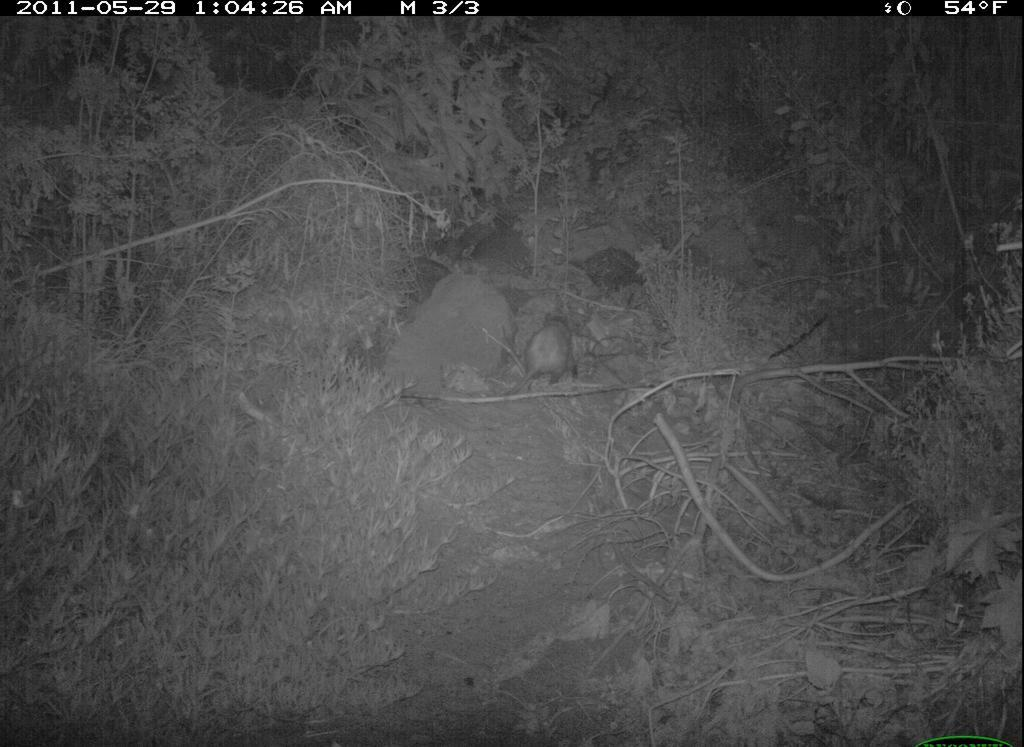opossum: (492, 304, 579, 413)
